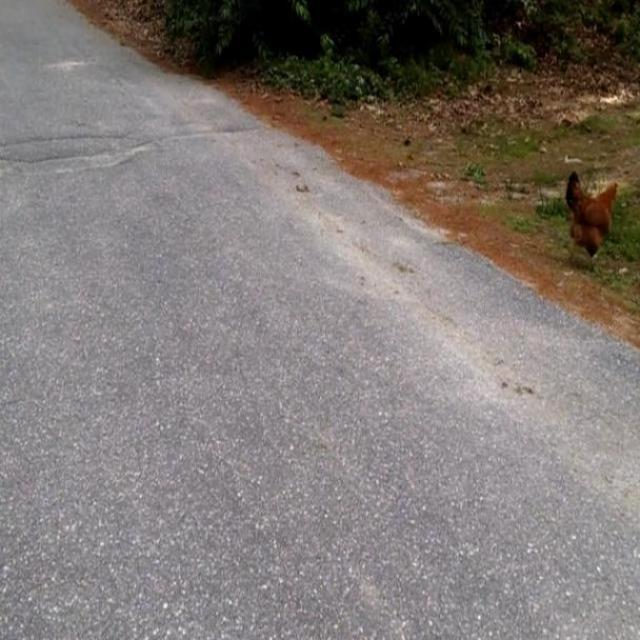Chicken: (565, 171, 619, 272)
